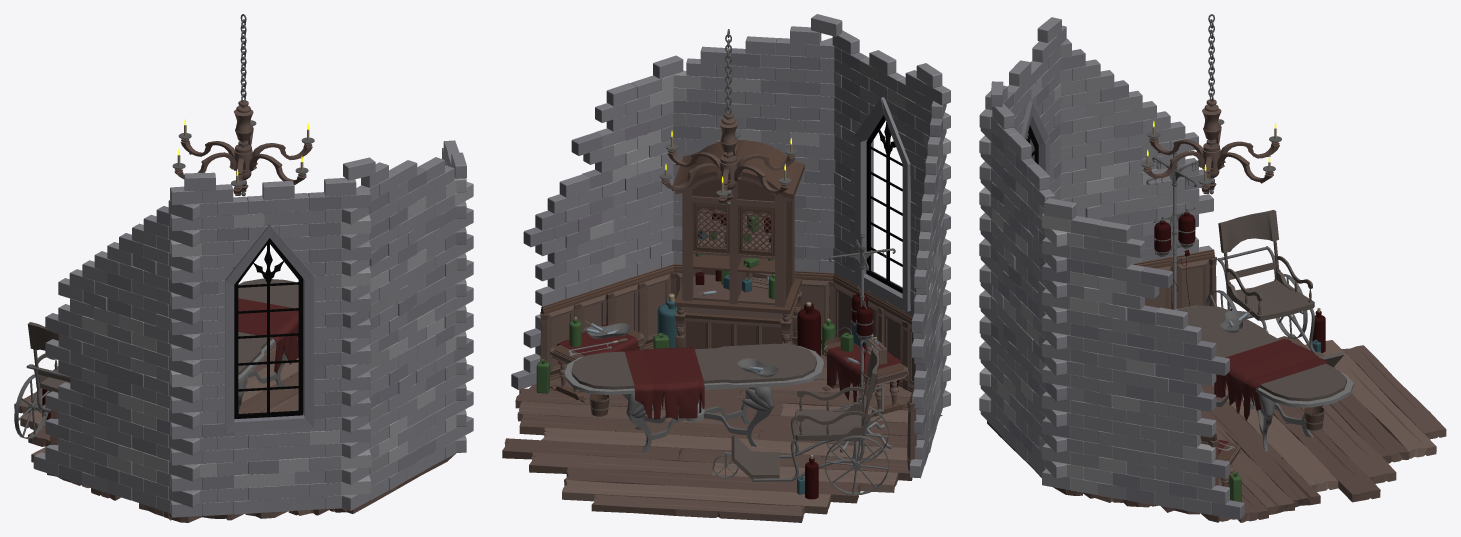
File: lugardescanso.fbx
The picture shows the model from 3 angles, left to right: view 1: azimuth 30°, elevation 25°; view 2: azimuth 150°, elevation 25°; view 3: azimuth 270°, elevation 25°; orthographic projection. The views are drawn at different scales.
Visible parts, largest first — view 1: polySurface10_stone_0, polySurface10_stone_darker_0, polySurface10_stone_lighter_0, polySurface10_brown_wood_0, polySurface10_Black_metal_0, polySurface10_brown_lighter_gray_wood3_0, polySurface10_dark_metal_0, polySurface10_red_cloth_0, polySurface10_brown_darker_wood1_0, polySurface10_brown_lighter_wood1_0; view 2: polySurface10_stone_0, polySurface10_brown_wood_0, polySurface10_brown_darker_wood1_0, polySurface10_stone_darker_0, polySurface10_brown_lighter_orange_wood2_0, polySurface10_brown_lighter_wood1_0, polySurface10_brown_lighter_gray_wood3_0, polySurface10_dark_metal_0, polySurface10_red_cloth_0, polySurface10_stone_lighter_0, polySurface10_red_glass_0, polySurface10_Silver_metal_0 (+3 smaller); view 3: polySurface10_stone_0, polySurface10_stone_darker_0, polySurface10_brown_wood_0, polySurface10_brown_lighter_gray_wood3_0, polySurface10_brown_darker_wood1_0, polySurface10_stone_lighter_0, polySurface10_brown_lighter_wood1_0, polySurface10_dark_metal_0, polySurface10_red_cloth_0, polySurface10_Silver_metal_0, polySurface10_red_glass_0, polySurface10_brown_lighter_orange_wood2_0.
Boxes of the visible parts, left/top/right/bottom form: polySurface10_stone_0: left=33, top=140, right=473, bottom=517; polySurface10_stone_darker_0: left=45, top=167, right=473, bottom=490; polySurface10_stone_lighter_0: left=82, top=177, right=473, bottom=495; polySurface10_brown_wood_0: left=28, top=126, right=455, bottom=522; polySurface10_Black_metal_0: left=234, top=238, right=303, bottom=418; polySurface10_brown_lighter_gray_wood3_0: left=27, top=278, right=298, bottom=392; polySurface10_dark_metal_0: left=14, top=14, right=314, bottom=439; polySurface10_red_cloth_0: left=238, top=298, right=298, bottom=373; polySurface10_brown_darker_wood1_0: left=14, top=100, right=298, bottom=520; polySurface10_brown_lighter_wood1_0: left=20, top=358, right=298, bottom=516; polySurface10_stone_0: left=523, top=14, right=950, bottom=478; polySurface10_brown_wood_0: left=502, top=138, right=942, bottom=503; polySurface10_brown_darker_wood1_0: left=517, top=112, right=915, bottom=522; polySurface10_stone_darker_0: left=511, top=48, right=950, bottom=465; polySurface10_brown_lighter_orange_wood2_0: left=541, top=140, right=914, bottom=470; polySurface10_brown_lighter_wood1_0: left=541, top=307, right=908, bottom=514; polySurface10_brown_lighter_gray_wood3_0: left=571, top=343, right=879, bottom=479; polySurface10_dark_metal_0: left=587, top=29, right=895, bottom=494; polySurface10_red_cloth_0: left=556, top=324, right=904, bottom=420; polySurface10_stone_lighter_0: left=535, top=70, right=950, bottom=412; polySurface10_red_glass_0: left=695, top=213, right=872, bottom=499; polySurface10_Silver_metal_0: left=564, top=237, right=892, bottom=452; polySurface10_stone_0: left=979, top=17, right=1229, bottom=514; polySurface10_stone_darker_0: left=980, top=49, right=1244, bottom=519; polySurface10_brown_wood_0: left=987, top=125, right=1409, bottom=522; polySurface10_brown_lighter_gray_wood3_0: left=1176, top=210, right=1346, bottom=401; polySurface10_brown_darker_wood1_0: left=1122, top=99, right=1446, bottom=514; polySurface10_stone_lighter_0: left=979, top=76, right=1215, bottom=494; polySurface10_brown_lighter_wood1_0: left=1212, top=340, right=1436, bottom=491; polySurface10_dark_metal_0: left=1141, top=14, right=1334, bottom=451; polySurface10_red_cloth_0: left=1214, top=339, right=1330, bottom=455; polySurface10_Silver_metal_0: left=1173, top=154, right=1353, bottom=450; polySurface10_red_glass_0: left=1154, top=212, right=1325, bottom=352; polySurface10_brown_lighter_orange_wood2_0: left=1132, top=249, right=1324, bottom=487.
Size of the model in its own units: 293 by 282 by 289.
